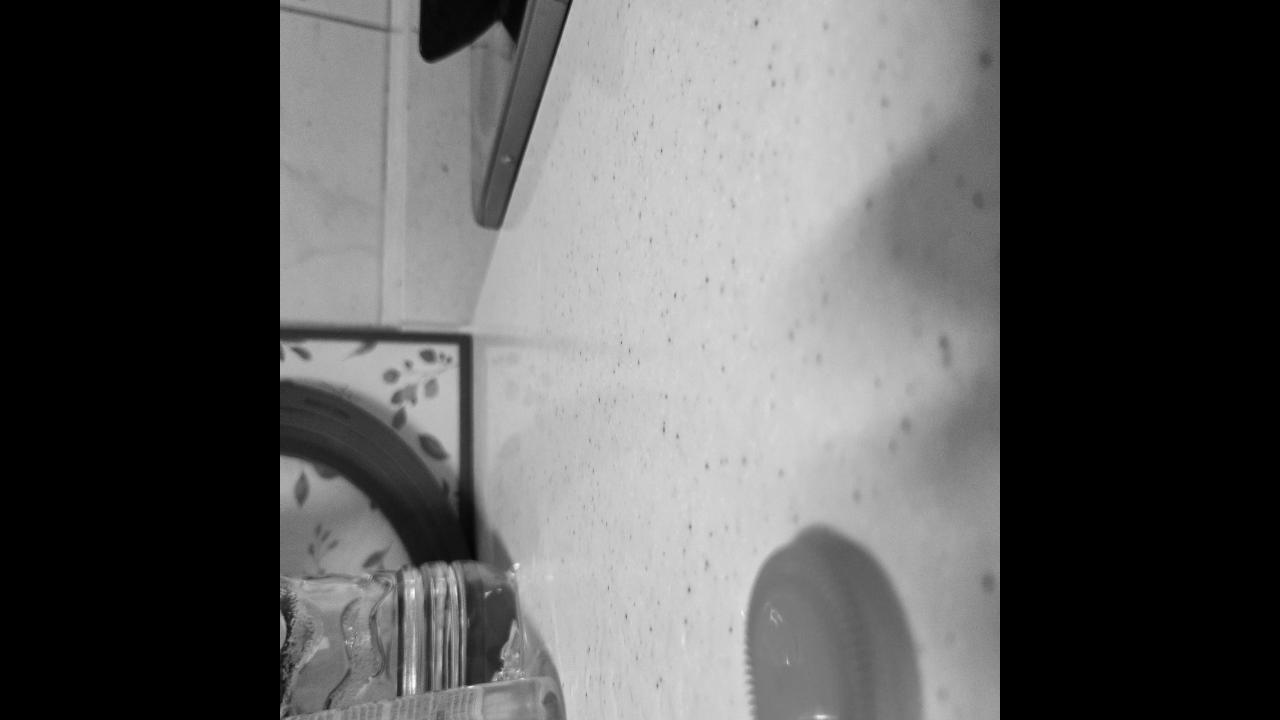bottle_cap: (745, 536, 918, 720)
